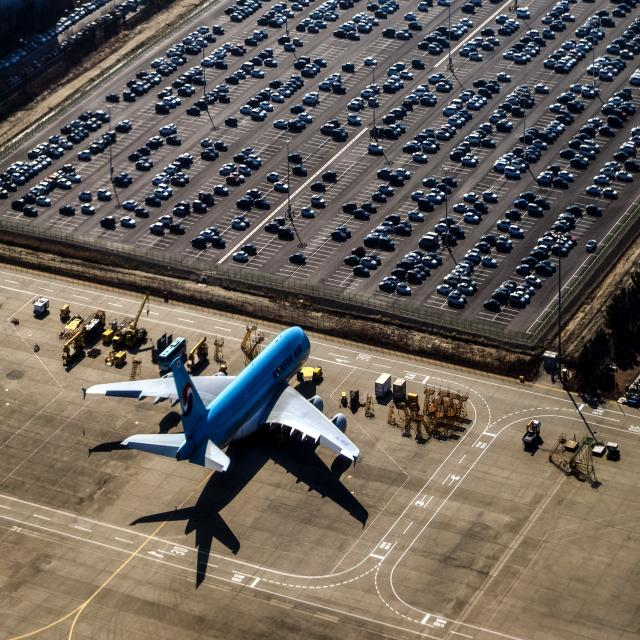plain: (71, 297, 373, 493)
